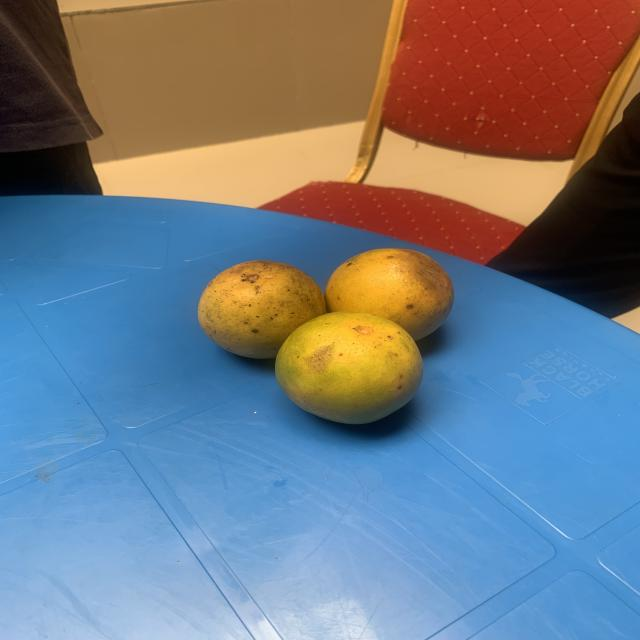Ripe orange: (284, 306, 423, 435), (320, 232, 476, 335), (182, 263, 334, 354)
